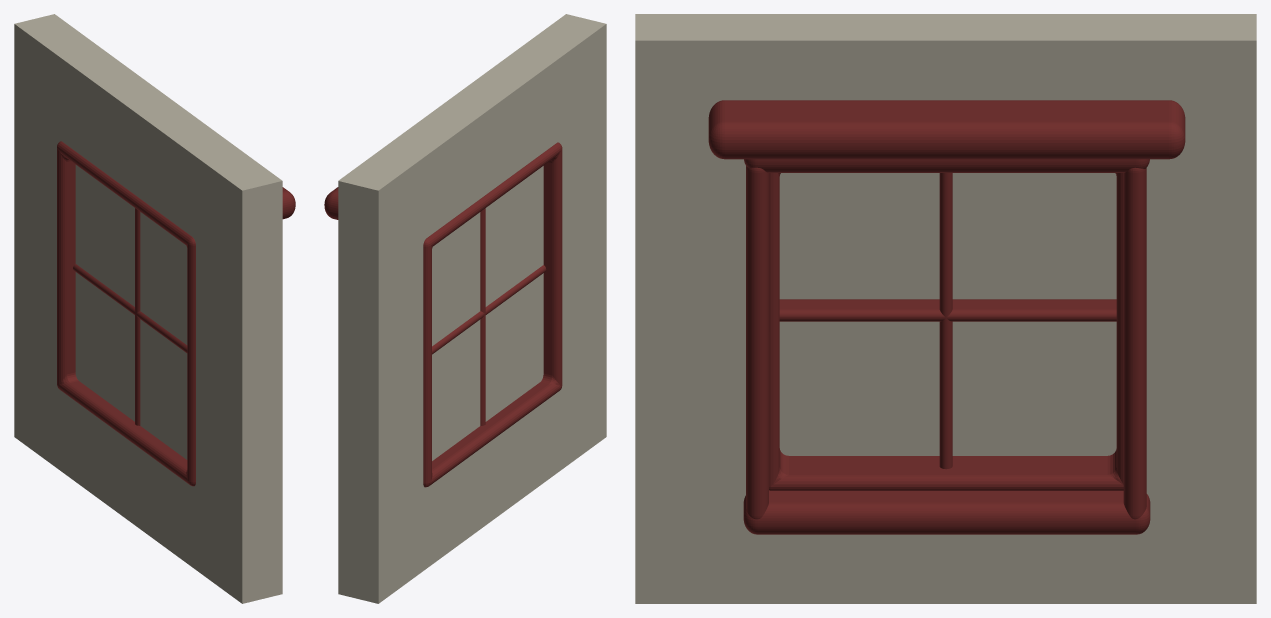
Rendered from wall_window_1x1.fbx.
3 views of the same model, side by side, from view 1: azimuth 30°, elevation 25°; view 2: azimuth 150°, elevation 25°; view 3: azimuth 270°, elevation 25° (orthographic). The views are drawn at different scales.
Parts seen in each view (by area): view 1: wall_window_1x1; view 2: wall_window_1x1; view 3: wall_window_1x1.
Boxes of the visible parts, x1,y1,x2,y2 form: wall_window_1x1: (14,14,295,603); wall_window_1x1: (324,14,606,603); wall_window_1x1: (635,14,1256,603).
Bounding box in the file's own units: 22.53 × 99.82 × 99.82.
